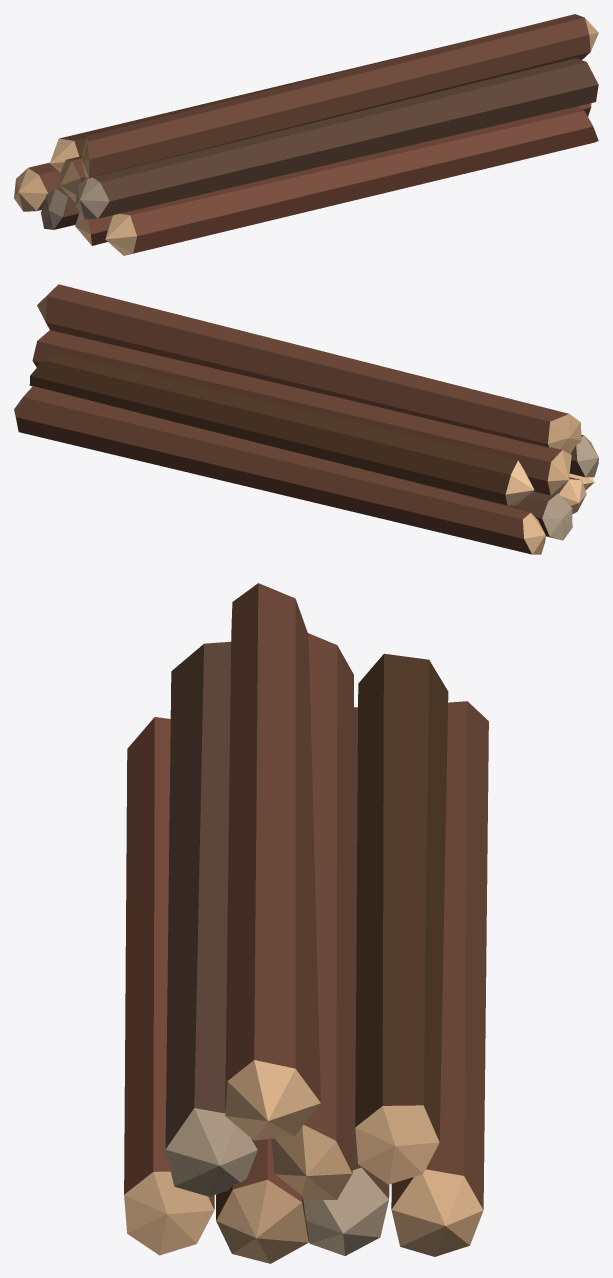
Rendered from Logs 1.glb.
3 renders of one model, top to bottom at view 1: azimuth 30°, elevation 25°; view 2: azimuth 150°, elevation 25°; view 3: azimuth 270°, elevation 25°, orthographic. The views are drawn at different scales.
Visible parts, largest first — view 1: Logs 1; view 2: Logs 1; view 3: Logs 1.
Boxes of the visible parts, x1,y1,x2,y2 form: Logs 1: [14, 14, 598, 255]; Logs 1: [14, 284, 598, 554]; Logs 1: [124, 583, 488, 1263].
Size of what is drawn, in the model's own units: 2.97 by 0.5628 by 0.8748.
Materials: 1 (1 with a texture image).
